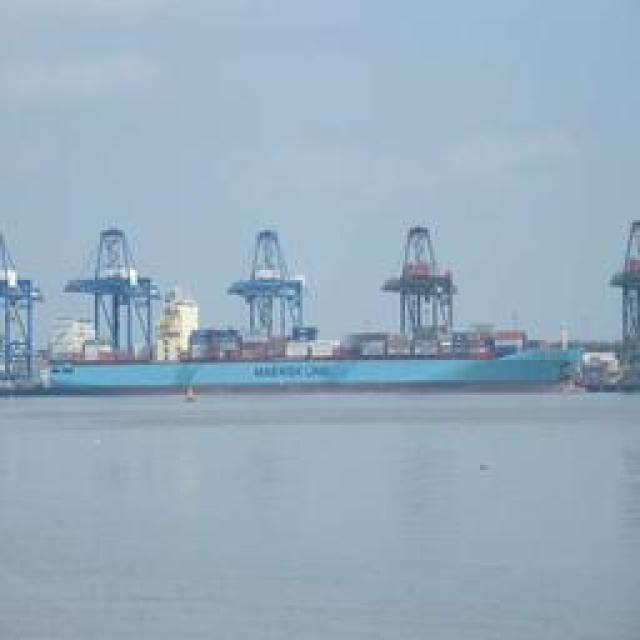CIV_Ship: (15, 221, 608, 394)
